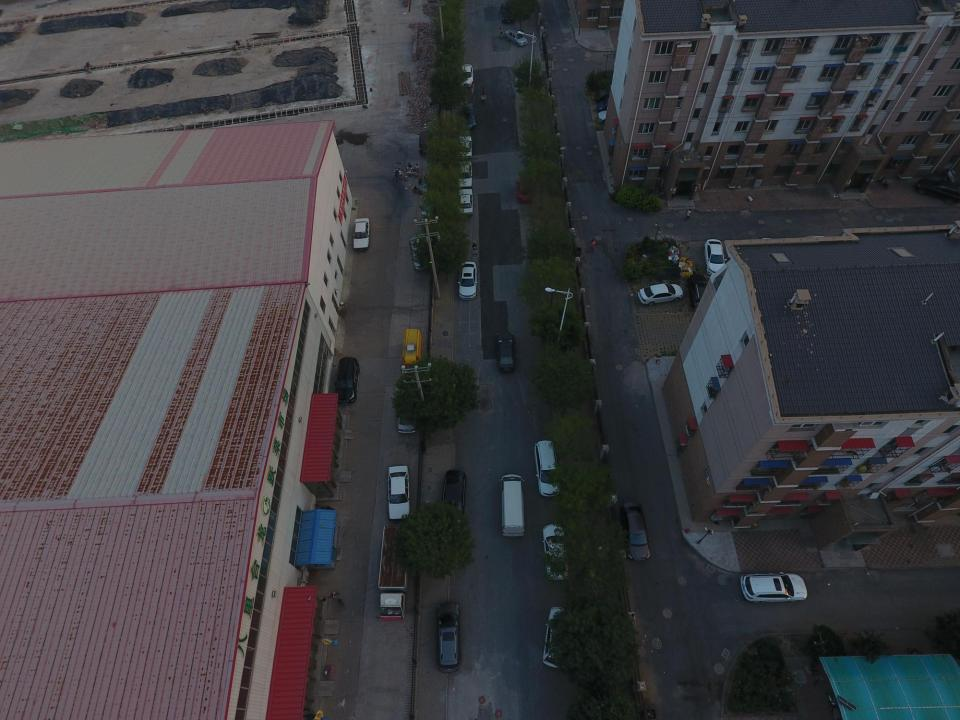car: (740, 572, 808, 602), (543, 607, 573, 669), (620, 502, 651, 562), (436, 602, 462, 673), (542, 524, 571, 580), (441, 469, 466, 522), (388, 465, 410, 520), (334, 357, 359, 405), (637, 283, 683, 305), (703, 239, 727, 275), (495, 331, 516, 372), (688, 274, 712, 308), (458, 262, 478, 300), (397, 398, 415, 434), (353, 218, 369, 250), (457, 161, 473, 188), (515, 177, 531, 204), (458, 188, 473, 216), (505, 28, 527, 47), (462, 103, 476, 130), (597, 110, 623, 124), (418, 130, 432, 154), (460, 64, 474, 87), (596, 98, 620, 111), (458, 136, 472, 158), (499, 2, 513, 22), (595, 88, 616, 101)
truck: (378, 526, 408, 621)
van: (500, 474, 526, 537), (533, 439, 561, 497), (409, 237, 428, 271)
